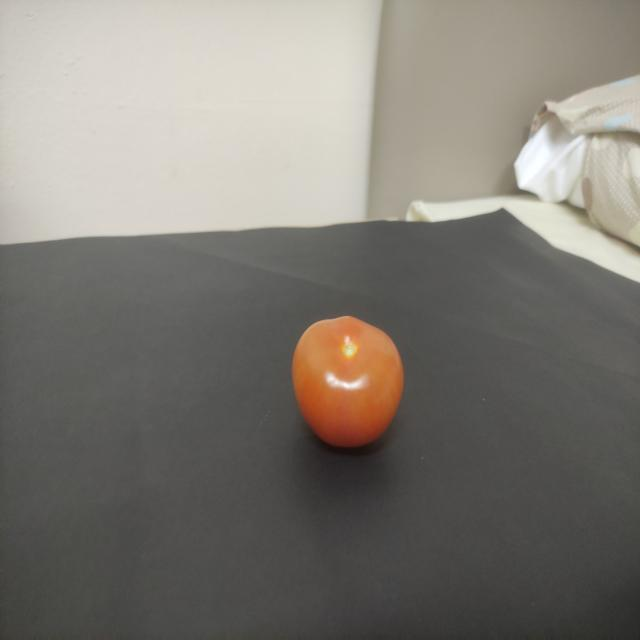sari: (272, 302, 428, 453)
